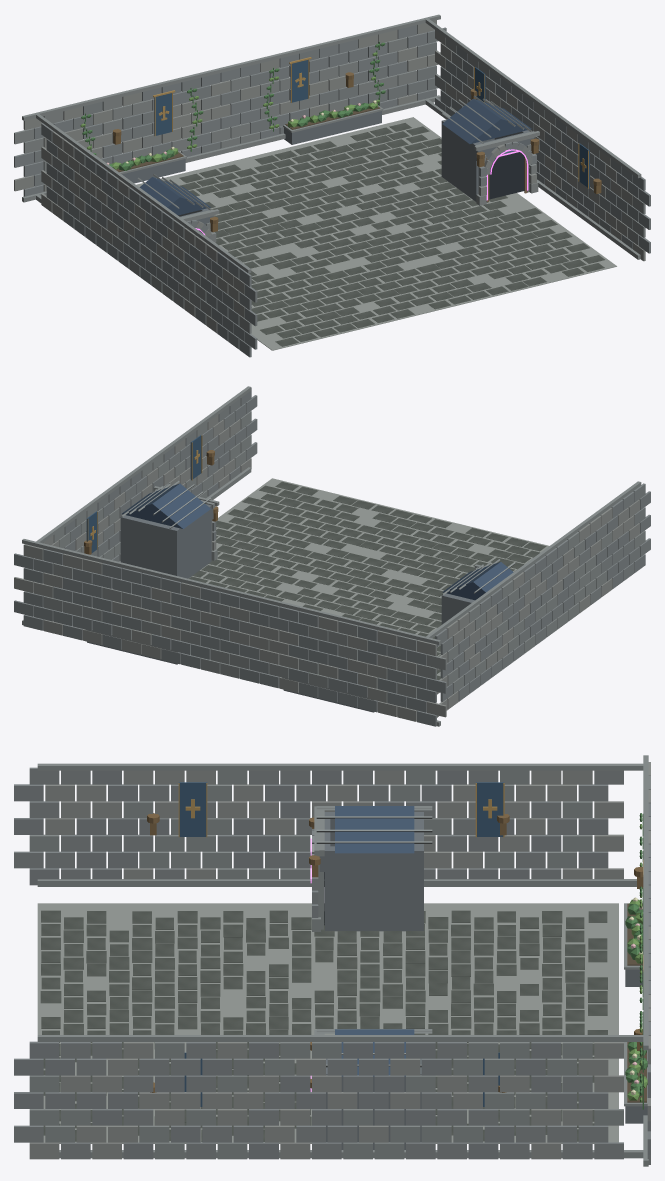
File: castle-courtyard.glb
3 renders of one model, top to bottom at view 1: azimuth 30°, elevation 25°; view 2: azimuth 150°, elevation 25°; view 3: azimuth 270°, elevation 25°, orthographic. The views are drawn at different scales.
Visible parts, largest first — view 1: courtyard-Worn-paving-stones, courtyard-Courtyard-paving, courtyard-Wall-block-3, courtyard-Wall-block-2, courtyard-Wall-block-0, courtyard-Wall-block-1, courtyard-Barracks-trim, courtyard-Courtyard-stone, courtyard-Barracks-blue-roof, courtyard-Heraldic-midnight-blue, courtyard-Garden-ivy, courtyard-Barracks-entry (+3 smaller); view 2: courtyard-Worn-paving-stones, courtyard-Wall-block-3, courtyard-Wall-block-2, courtyard-Wall-block-0, courtyard-Wall-block-1, courtyard-Courtyard-paving, courtyard-Barracks-trim, courtyard-Courtyard-stone, courtyard-Barracks-blue-roof, courtyard-Heraldic-midnight-blue; view 3: courtyard-Worn-paving-stones, courtyard-Wall-block-3, courtyard-Wall-block-2, courtyard-Courtyard-paving, courtyard-Wall-block-0, courtyard-Wall-block-1, courtyard-Barracks-trim, courtyard-Courtyard-stone, courtyard-Barracks-blue-roof, courtyard-Heraldic-midnight-blue, courtyard-Garden-ivy, courtyard-Sconce-bronze (+2 smaller).
Part boxes in pixels (x1=…): courtyard-Worn-paving-stones: x1=179, y1=123, x2=604, y2=346; courtyard-Courtyard-paving: x1=136, y1=117, x2=616, y2=350; courtyard-Wall-block-3: x1=14, y1=25, x2=650, y2=349; courtyard-Wall-block-2: x1=14, y1=20, x2=645, y2=333; courtyard-Wall-block-0: x1=33, y1=27, x2=650, y2=357; courtyard-Wall-block-1: x1=14, y1=37, x2=645, y2=333; courtyard-Barracks-trim: x1=22, y1=14, x2=641, y2=273; courtyard-Courtyard-stone: x1=122, y1=111, x2=534, y2=230; courtyard-Barracks-blue-roof: x1=139, y1=98, x2=531, y2=215; courtyard-Heraldic-midnight-blue: x1=154, y1=60, x2=589, y2=188; courtyard-Garden-ivy: x1=81, y1=41, x2=385, y2=170; courtyard-Barracks-entry: x1=198, y1=152, x2=524, y2=233; courtyard-Worn-paving-stones: x1=189, y1=481, x2=546, y2=693; courtyard-Wall-block-3: x1=23, y1=398, x2=650, y2=726; courtyard-Wall-block-2: x1=14, y1=414, x2=639, y2=721; courtyard-Wall-block-0: x1=14, y1=388, x2=650, y2=712; courtyard-Wall-block-1: x1=43, y1=411, x2=645, y2=698; courtyard-Courtyard-paving: x1=83, y1=478, x2=548, y2=698; courtyard-Barracks-trim: x1=22, y1=386, x2=641, y2=726; courtyard-Courtyard-stone: x1=87, y1=504, x2=474, y2=712; courtyard-Barracks-blue-roof: x1=122, y1=483, x2=513, y2=600; courtyard-Heraldic-midnight-blue: x1=86, y1=435, x2=201, y2=552; courtyard-Worn-paving-stones: x1=40, y1=910, x2=607, y2=1141; courtyard-Wall-block-3: x1=14, y1=767, x2=650, y2=1164; courtyard-Wall-block-2: x1=29, y1=762, x2=650, y2=1159; courtyard-Courtyard-paving: x1=37, y1=903, x2=618, y2=1143; courtyard-Wall-block-0: x1=14, y1=770, x2=650, y2=1159; courtyard-Wall-block-1: x1=29, y1=770, x2=650, y2=1159; courtyard-Barracks-trim: x1=37, y1=755, x2=648, y2=1166; courtyard-Courtyard-stone: x1=319, y1=812, x2=647, y2=1149; courtyard-Barracks-blue-roof: x1=335, y1=806, x2=414, y2=1076; courtyard-Heraldic-midnight-blue: x1=178, y1=782, x2=504, y2=1106; courtyard-Garden-ivy: x1=625, y1=813, x2=647, y2=1109; courtyard-Sconce-bronze: x1=147, y1=813, x2=643, y2=1092.
Bounding box in the file's own units: 21.52 × 4.13 × 19.29.
21 materials, 1 textured.
